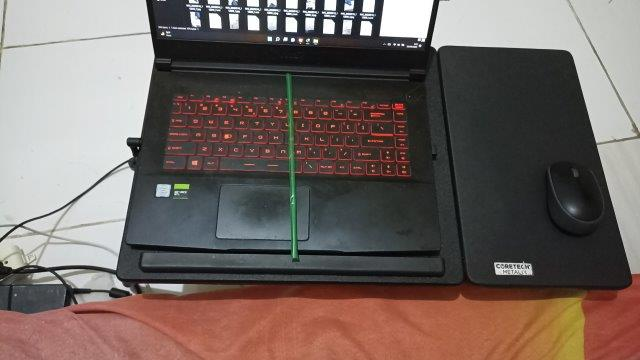sedotan: (286, 75, 299, 258)
